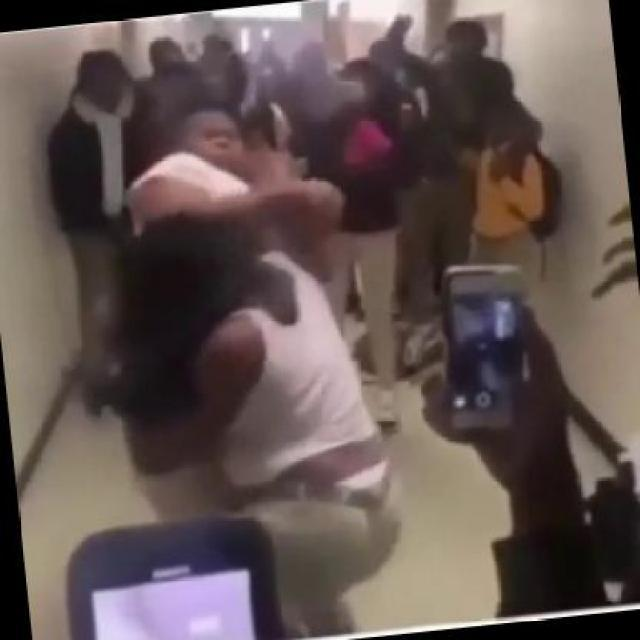fight: (41, 88, 406, 564)
